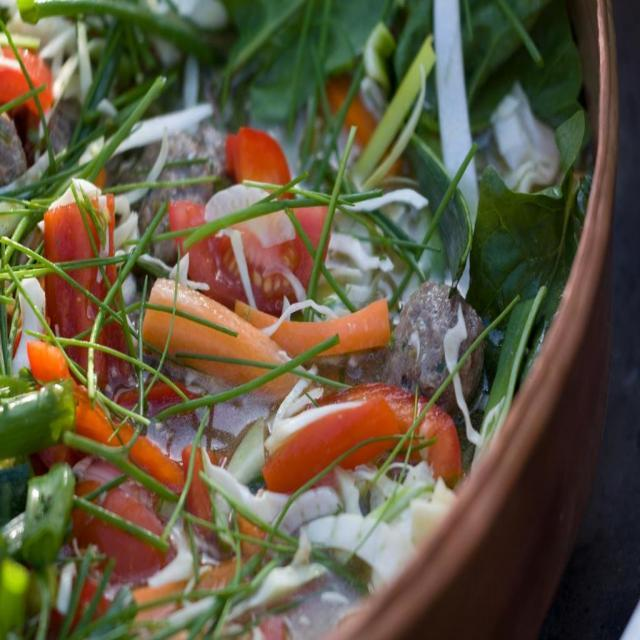Salad: (1, 0, 605, 639)
